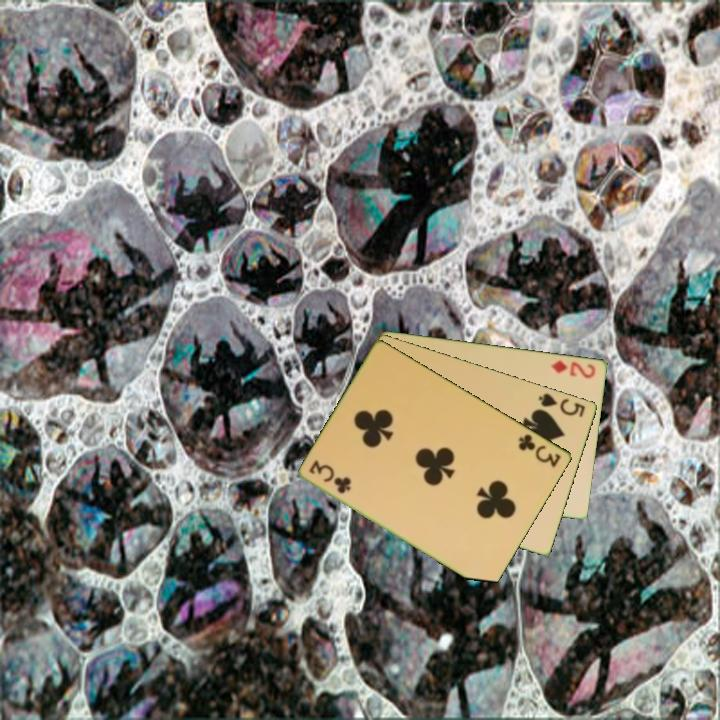2d: (548, 356, 599, 381)
3c: (515, 430, 564, 470), (306, 458, 354, 497)
5s: (535, 389, 588, 420)
